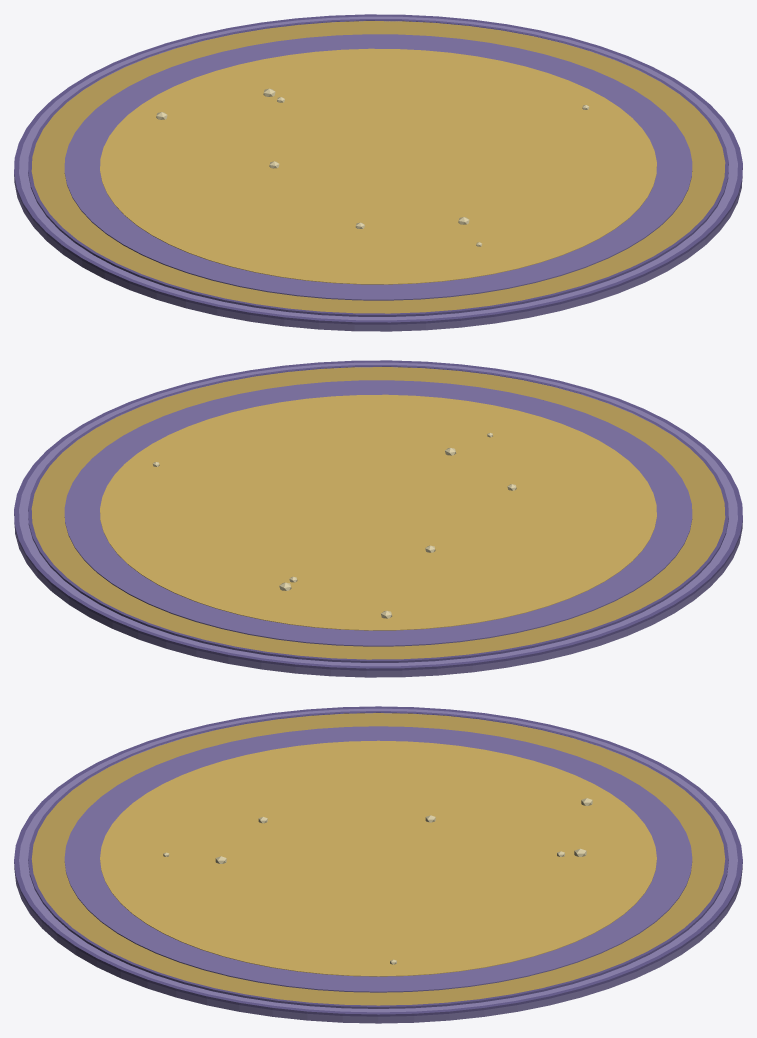
Rendered from goo_jar_foot@starlight.fbx.
3 views of the same model, one above another, from view 1: azimuth 30°, elevation 25°; view 2: azimuth 150°, elevation 25°; view 3: azimuth 270°, elevation 25° (orthographic).
Visible parts, largest first — view 1: goo_jar_foot; view 2: goo_jar_foot; view 3: goo_jar_foot.
Boxes of the visible parts, box(x1,y1,x2,y2) form: goo_jar_foot: box(14, 14, 742, 331); goo_jar_foot: box(14, 360, 742, 677); goo_jar_foot: box(14, 706, 742, 1023).
Size of the model in its own units: 80.1 by 2.08 by 80.1.
